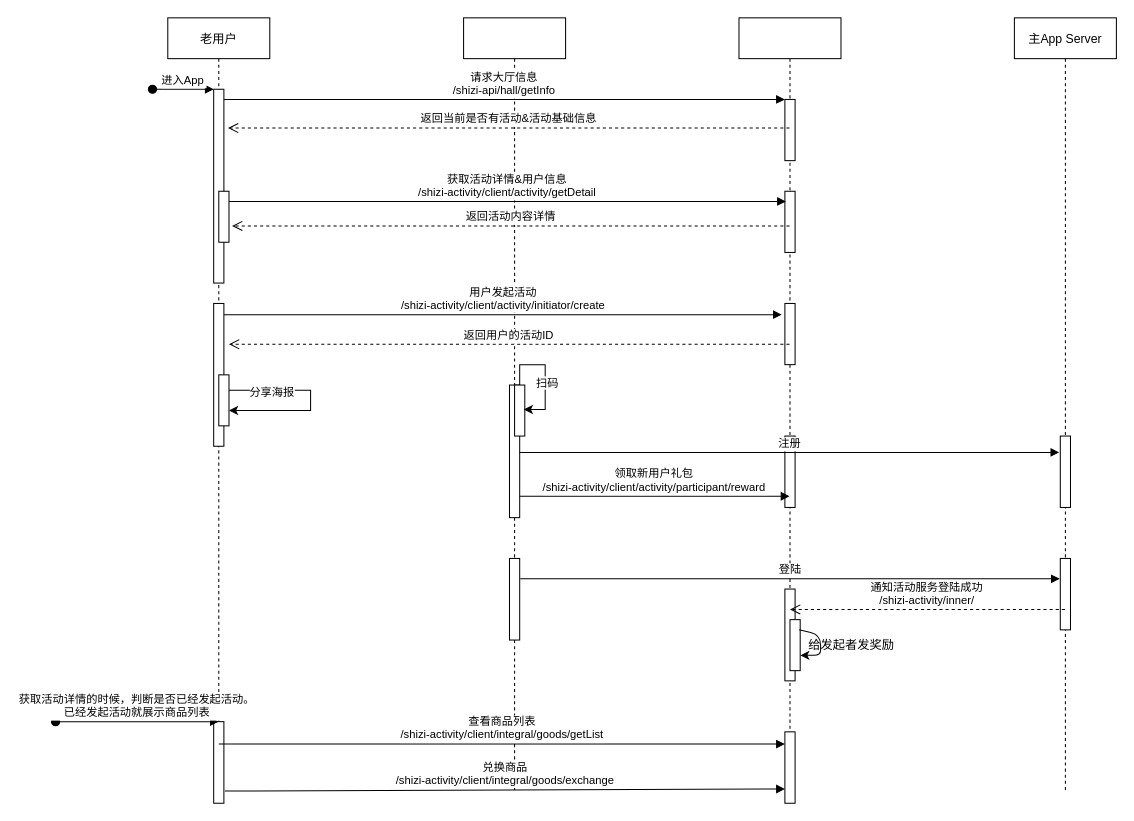
This 1134x821 diagram has some shape labels left out. Each missing label, with the centre of its shape:
新用户: point (514, 405)
活动Server: point (789, 405)
